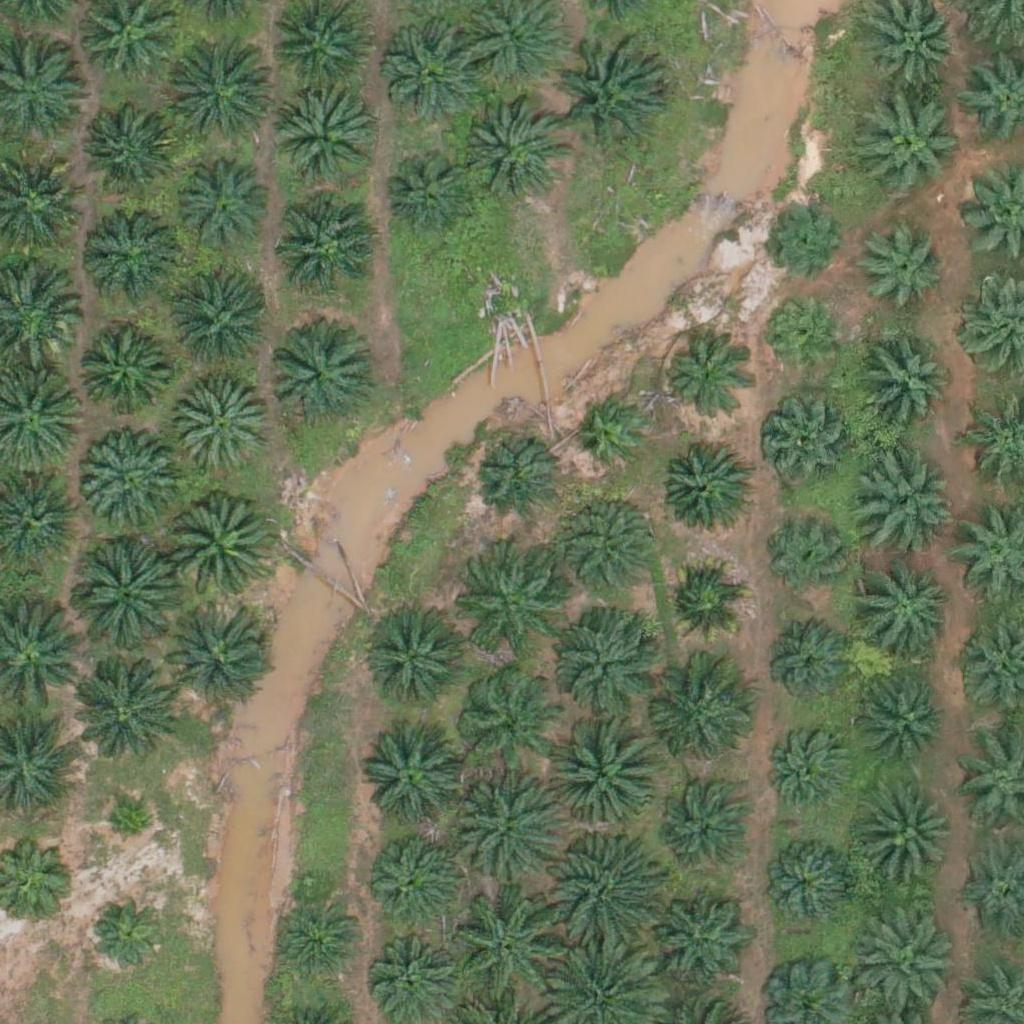Kelapa_Sawit: (550, 832, 663, 945), (549, 714, 662, 827), (550, 599, 663, 712), (447, 774, 560, 887), (66, 539, 179, 652), (63, 656, 176, 769), (551, 39, 664, 152), (851, 904, 963, 1018), (646, 658, 758, 771), (454, 888, 566, 1001), (162, 491, 274, 604), (159, 599, 271, 712), (166, 34, 278, 147), (857, 556, 957, 657), (649, 896, 749, 997), (451, 556, 551, 657), (457, 668, 557, 769), (363, 822, 463, 923), (363, 730, 463, 831), (369, 604, 469, 705), (266, 328, 366, 429), (173, 377, 273, 478), (71, 322, 171, 423), (78, 430, 178, 531), (850, 217, 950, 318), (460, 100, 560, 201), (385, 17, 485, 118), (269, 86, 369, 187), (856, 337, 956, 437), (859, 453, 959, 553), (860, 790, 960, 890), (758, 835, 858, 935), (558, 491, 658, 591), (171, 279, 271, 379), (857, 97, 957, 197), (275, 196, 375, 296), (171, 155, 271, 255), (83, 200, 183, 300), (80, 96, 180, 196), (859, 673, 947, 761), (760, 294, 848, 382), (764, 512, 852, 600), (765, 624, 853, 712), (765, 729, 853, 817), (473, 432, 561, 520), (762, 395, 849, 483), (664, 336, 751, 424), (660, 441, 747, 529), (85, 887, 172, 975), (660, 559, 747, 647), (657, 780, 744, 868), (272, 890, 359, 978), (762, 195, 849, 283), (386, 148, 473, 236), (576, 398, 651, 474), (104, 802, 154, 852)
